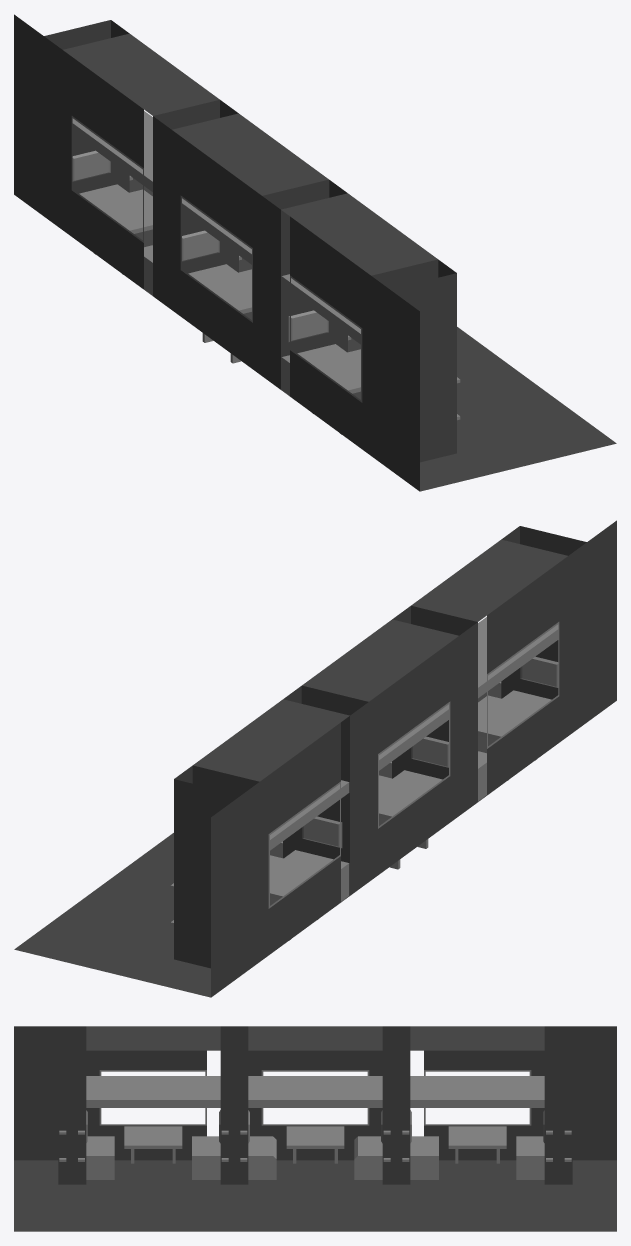
File: scene_train.gltf
The picture shows the model from 3 angles, top to bottom: view 1: azimuth 30°, elevation 25°; view 2: azimuth 150°, elevation 25°; view 3: azimuth 270°, elevation 25°; orthographic projection. The views are drawn at different scales.
Parts seen in each view (by area): view 1: train; view 2: train; view 3: train.
Boxes of the visible parts, bbox=[...] form: train: bbox=[14, 14, 616, 491]; train: bbox=[14, 520, 616, 997]; train: bbox=[14, 1026, 616, 1231].
Bounding box in the file's own units: 11.34 × 10.44 × 40.45.
2 materials, 2 textured.
